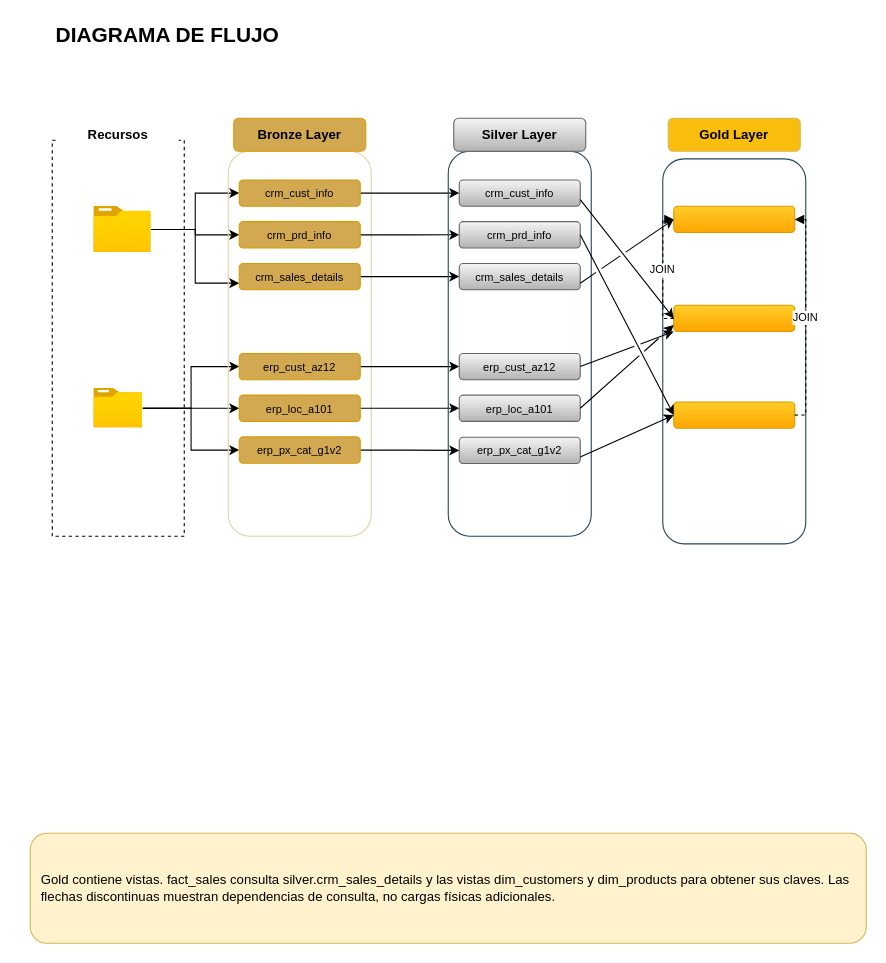
Some shapes in this 886 by 963 pixel diagram are drawn without their labels. The centre of each missing label's shape, as x and y in pixels:
CRM: pixel 122 229
dim_customer: pixel 734 318
dim_products: pixel 734 414
ERP: pixel 117 408
fact_sales: pixel 734 219
